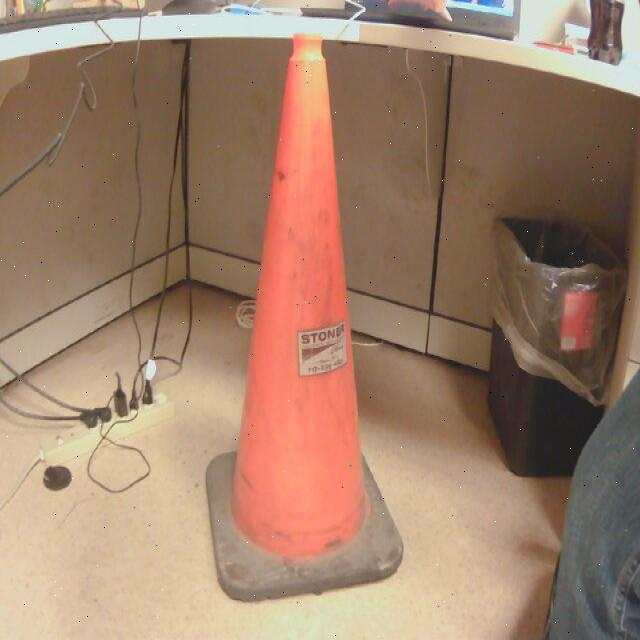traffic cone: (193, 21, 417, 610)
